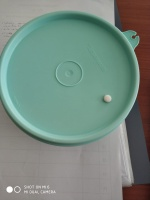Yuvarlak Buskopan: (103, 94, 112, 103)
